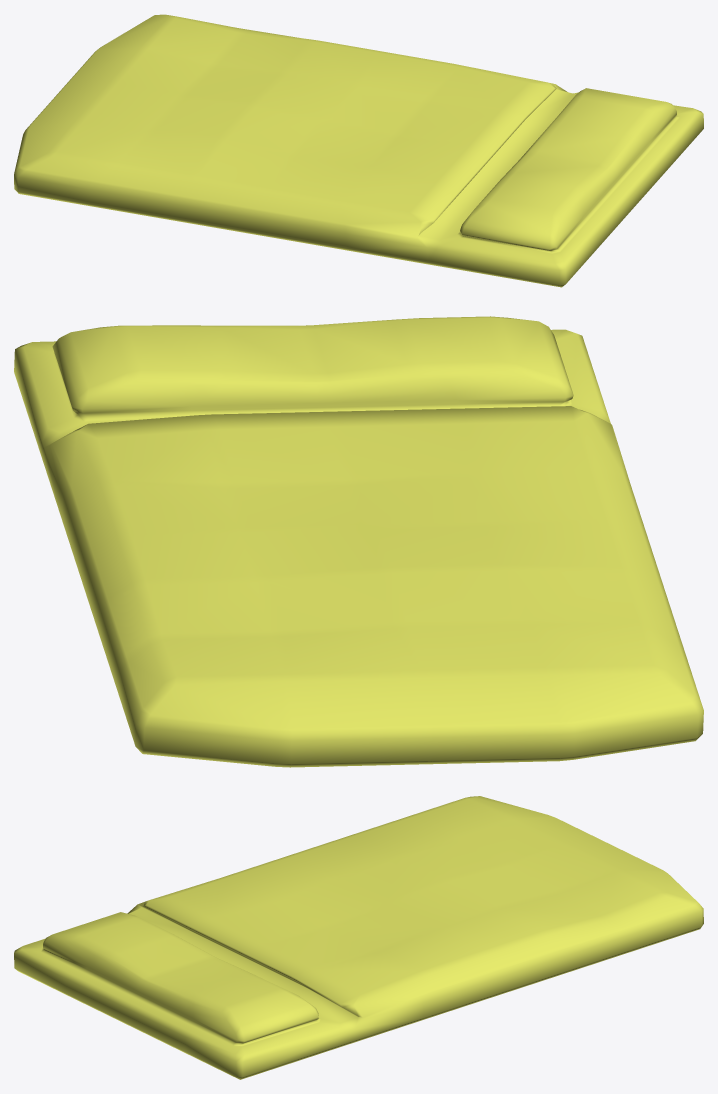
Rendered from bed.fbx.
The picture shows the model from 3 angles, top to bottom: view 1: azimuth 30°, elevation 25°; view 2: azimuth 150°, elevation 25°; view 3: azimuth 270°, elevation 25°; orthographic projection. The views are drawn at different scales.
Parts seen in each view (by area): view 1: sleepsack; view 2: sleepsack; view 3: sleepsack.
Part boxes in pixels (x1,y1,x2,y2): sleepsack: [14, 14, 703, 287]; sleepsack: [14, 316, 703, 767]; sleepsack: [14, 796, 703, 1079].
Bounding box in the file's own units: 350 × 33.17 × 371.
